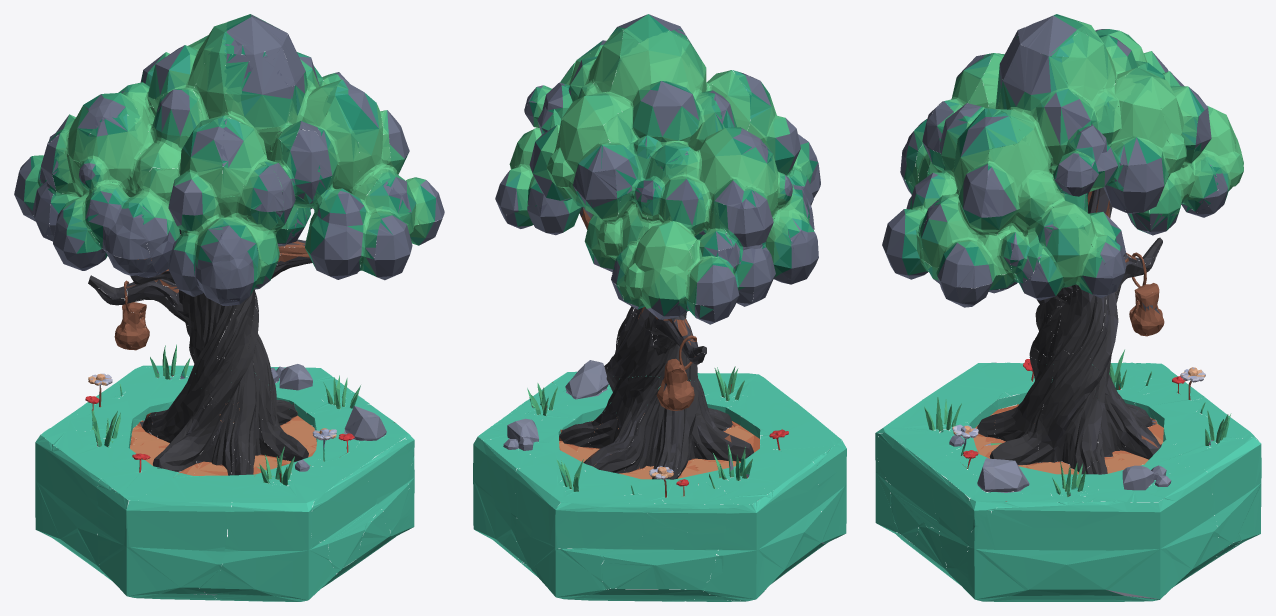
The model's file is 0 - mother tree2.glb.
3 renders of one model, left to right at view 1: azimuth 30°, elevation 25°; view 2: azimuth 150°, elevation 25°; view 3: azimuth 270°, elevation 25°, orthographic. The views are drawn at different scales.
Parts seen in each view (by area): view 1: threedium_node_a0bd42f4-5b1e-4d41-83ea-4e036964779d; view 2: threedium_node_a0bd42f4-5b1e-4d41-83ea-4e036964779d; view 3: threedium_node_a0bd42f4-5b1e-4d41-83ea-4e036964779d.
Boxes of the visible parts, x1,y1,x2,y2 form: threedium_node_a0bd42f4-5b1e-4d41-83ea-4e036964779d: (14,14,444,601); threedium_node_a0bd42f4-5b1e-4d41-83ea-4e036964779d: (473,14,846,601); threedium_node_a0bd42f4-5b1e-4d41-83ea-4e036964779d: (875,14,1261,601).
Size of the model in its own units: 1.12 by 1.73 by 1.13.
Materials: 1 (1 with a texture image).
